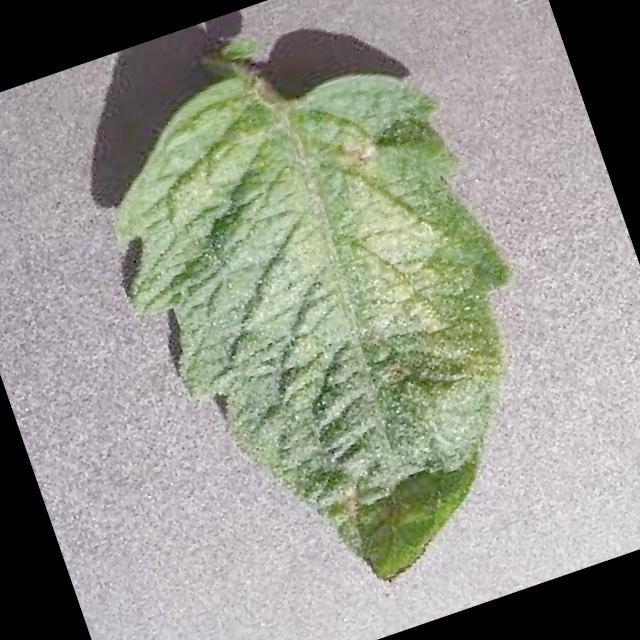Tomato spider mites leaf: (65, 3, 598, 637)
